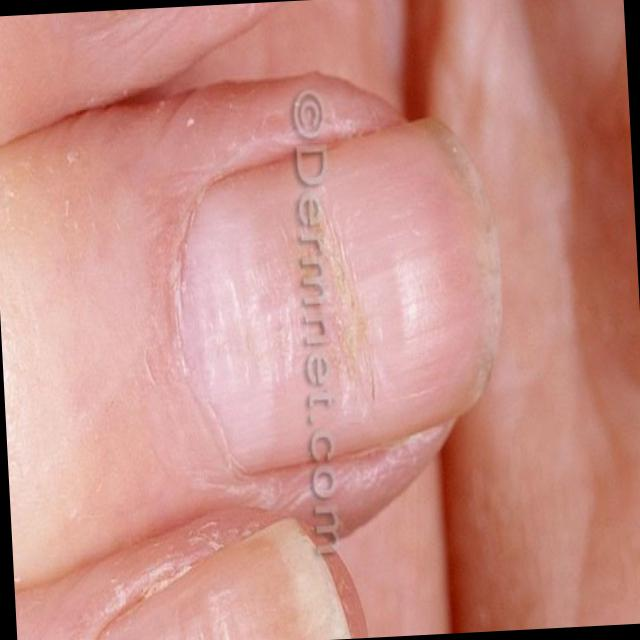Nail: (180, 114, 501, 479)
